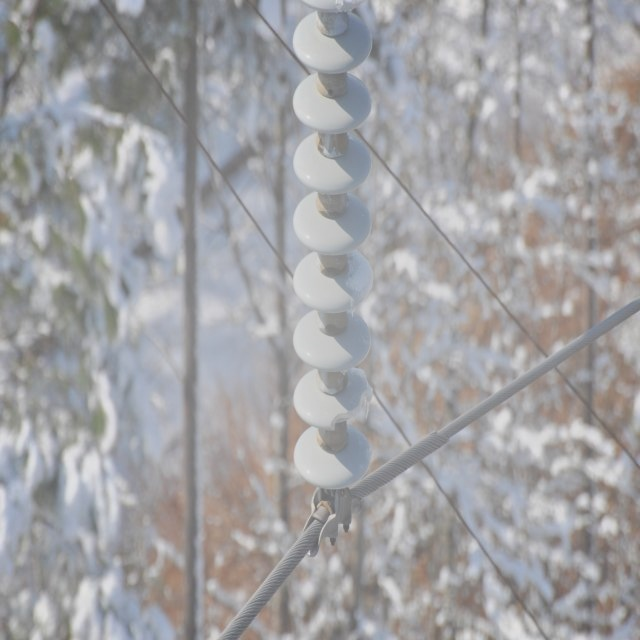broken: (329, 369, 374, 434)
insulator: (290, 0, 372, 488)
